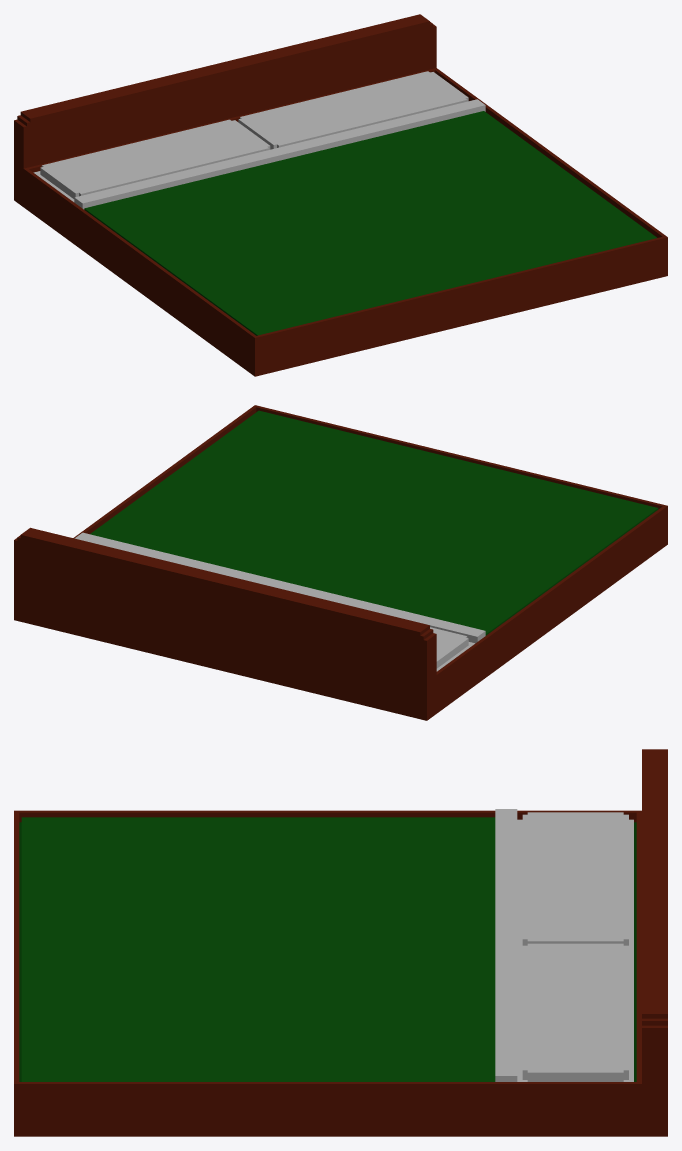
Rendered from King sized bed.fbx.
3 views of the same model, one above another, from view 1: azimuth 30°, elevation 25°; view 2: azimuth 150°, elevation 25°; view 3: azimuth 270°, elevation 25° (orthographic). The views are drawn at different scales.
Visible parts, largest first — view 1: king sized bed; view 2: king sized bed; view 3: king sized bed.
Part boxes in pixels (x1,y1,x2,y2): king sized bed: (14,14,667,376); king sized bed: (14,405,667,720); king sized bed: (14,749,667,1136).
Size of the model in its own units: 1.98 by 0.3987 by 2.
